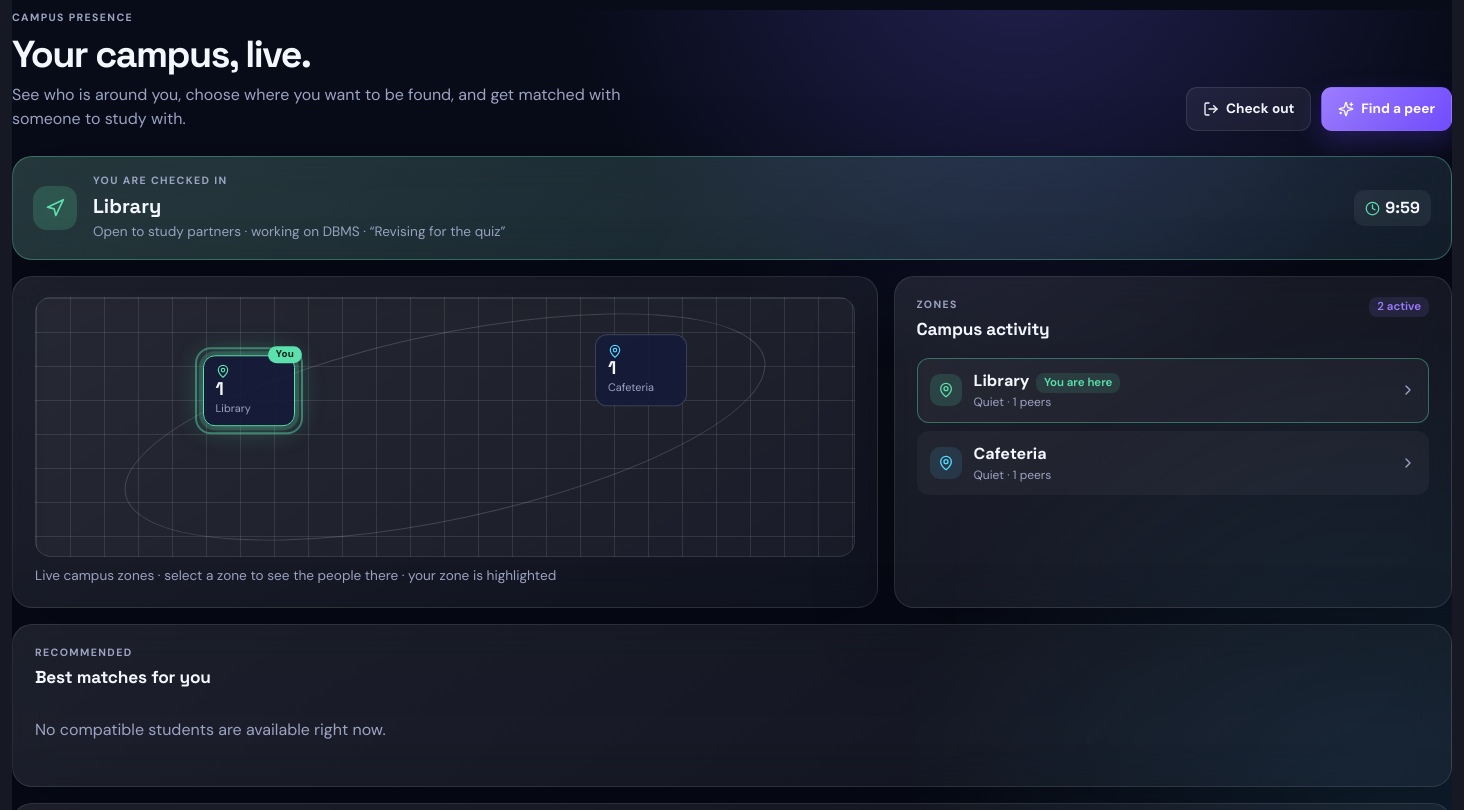
Scenario: Campus map zone panel › opens a panel for the clicked zone, moves the check-in there and keeps the note
Click the button with aria-label "Cafeteria: 1 peers" at (641, 370), box 595,334 -> 687,406
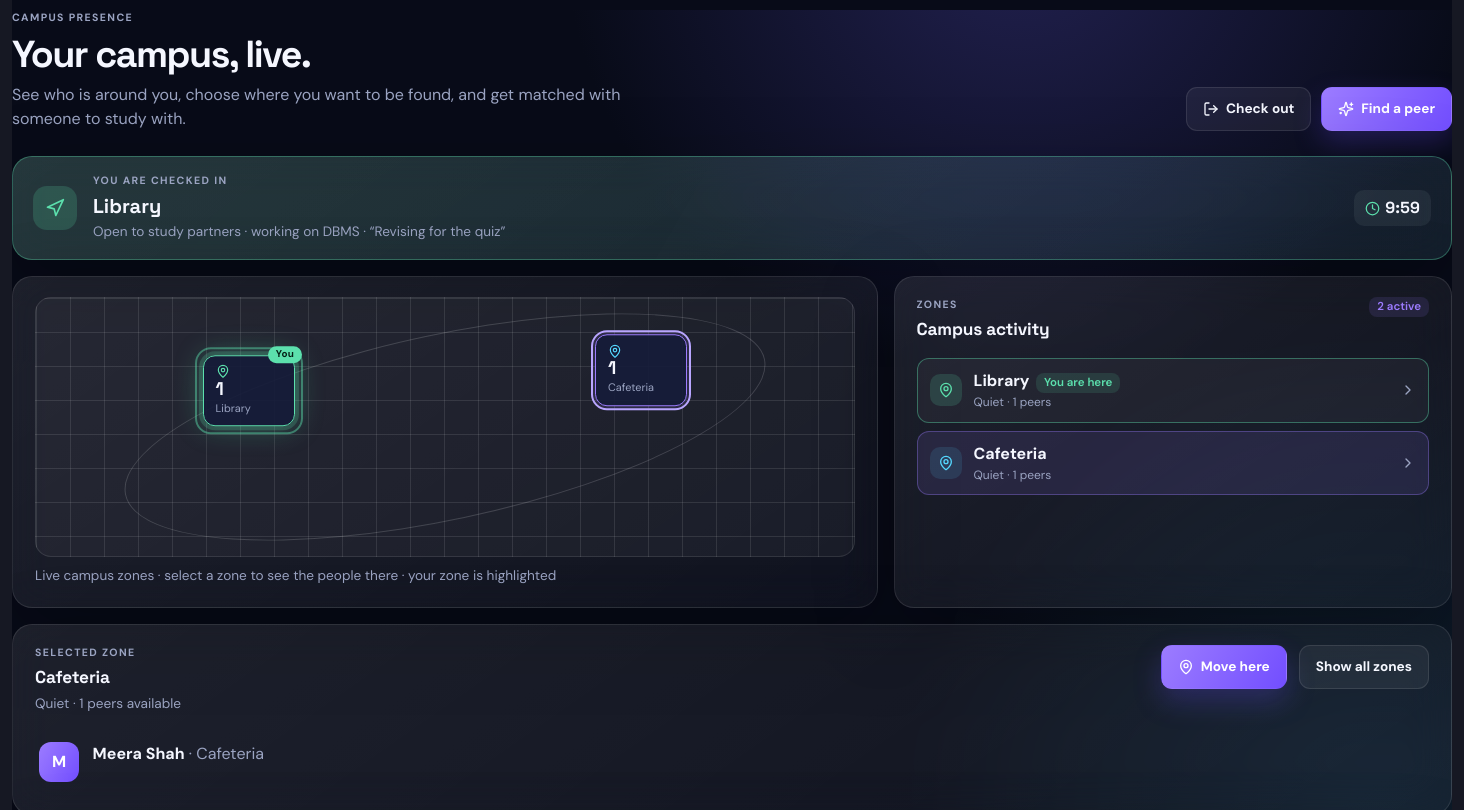
Expected: the heading "Cafeteria" is shown, 35,666 -> 110,688
Expected: the text "Meera Shah" is shown, 93,743 -> 184,764
Click the button "Move here" at (1224, 667), box 1161,645 -> 1287,689
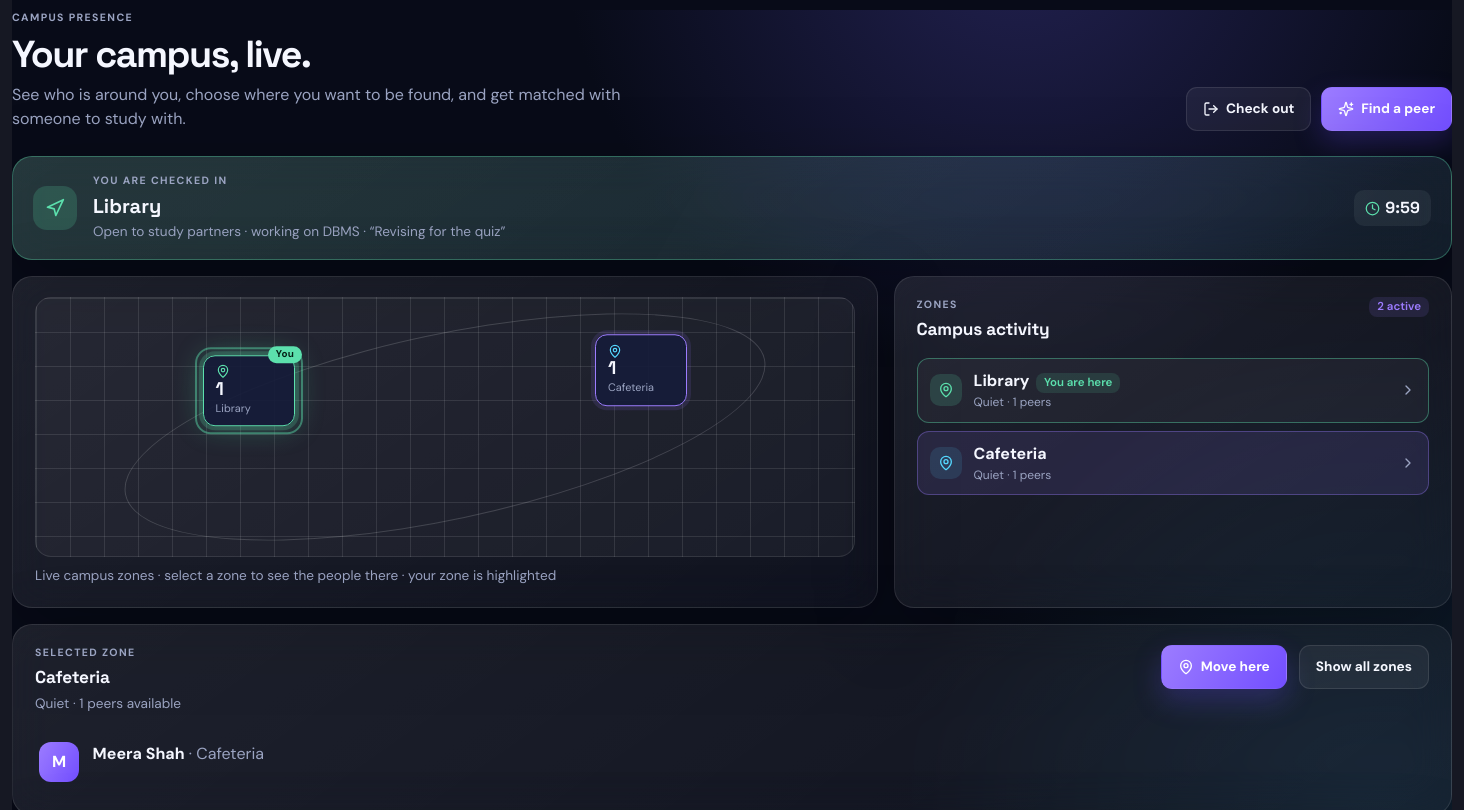
Click the button "Show all zones" at (1364, 667), box 1299,645 -> 1429,689
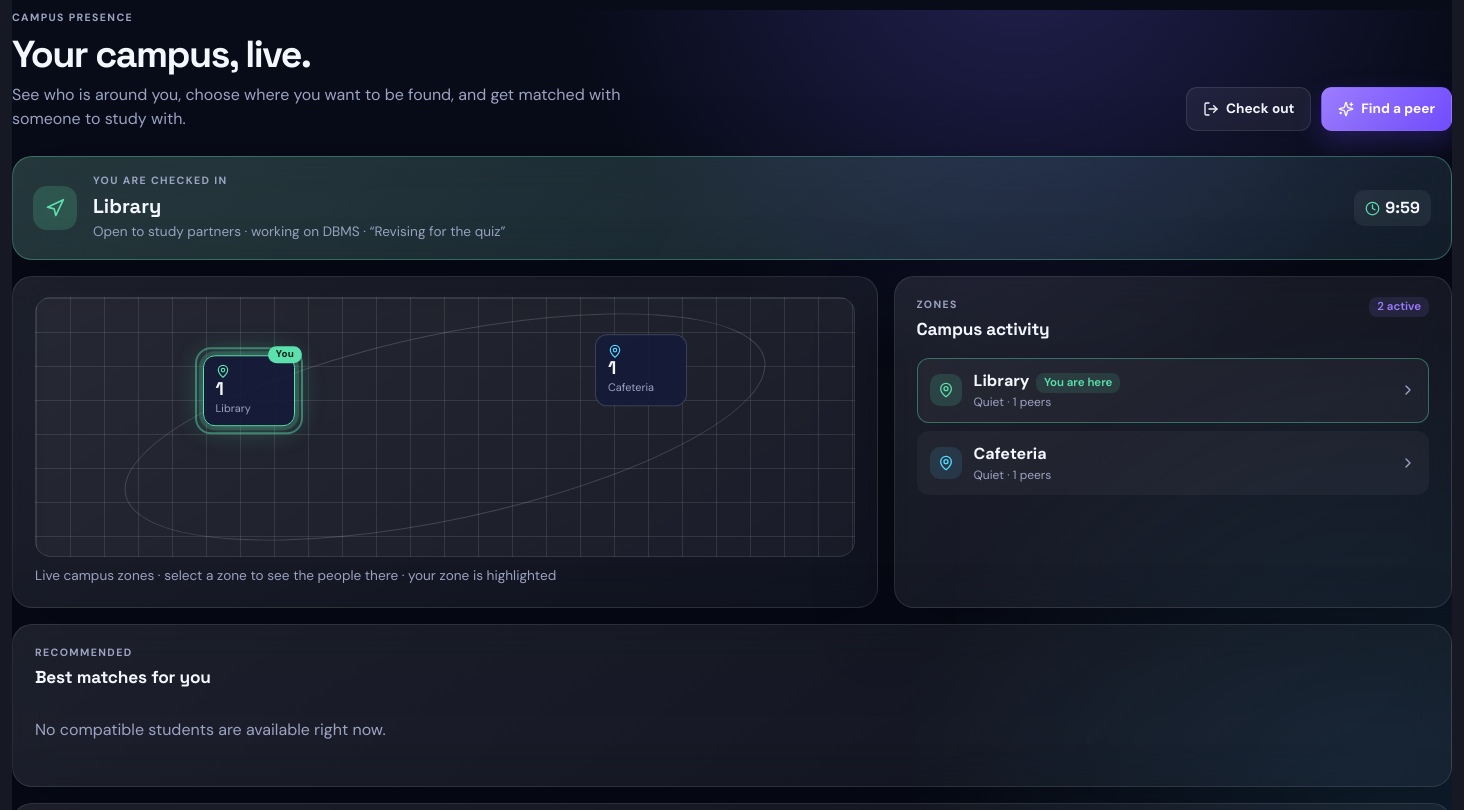
Expected: the button "Move here" is gone
